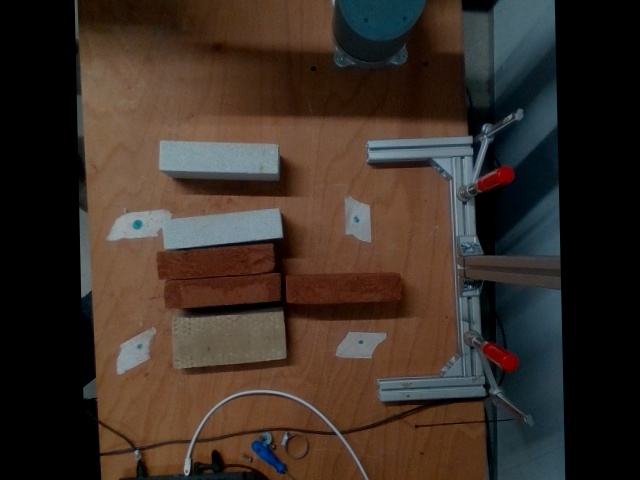brick: (172, 312, 285, 365)
brick-side: (161, 207, 281, 250), (158, 245, 274, 280), (164, 274, 279, 308), (160, 142, 277, 174), (286, 276, 398, 302)
